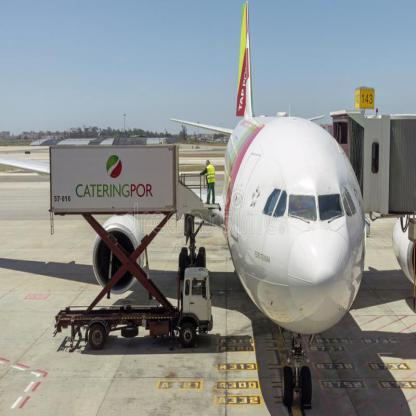Catering truck: (39, 122, 230, 374)
